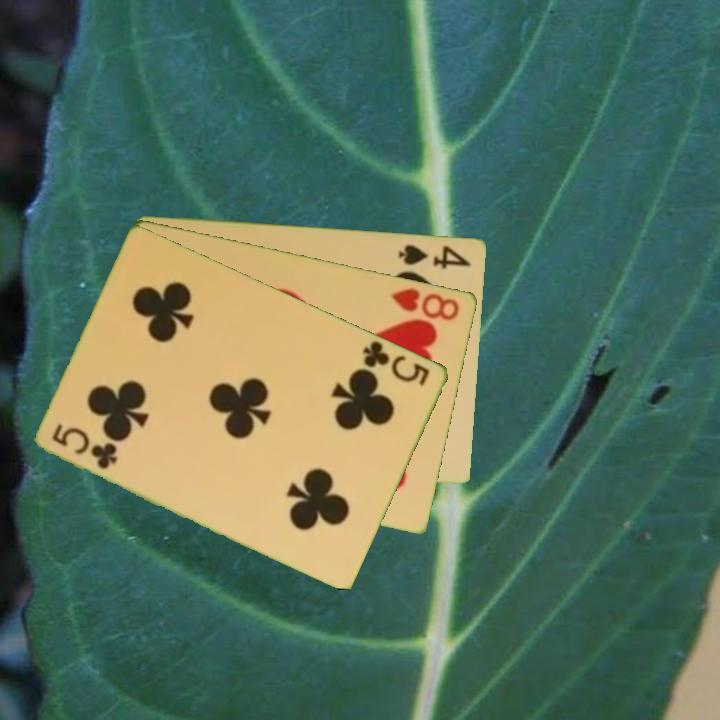4s: (396, 240, 474, 271)
5c: (49, 419, 121, 472), (360, 337, 433, 389)
8h: (387, 284, 463, 323)
